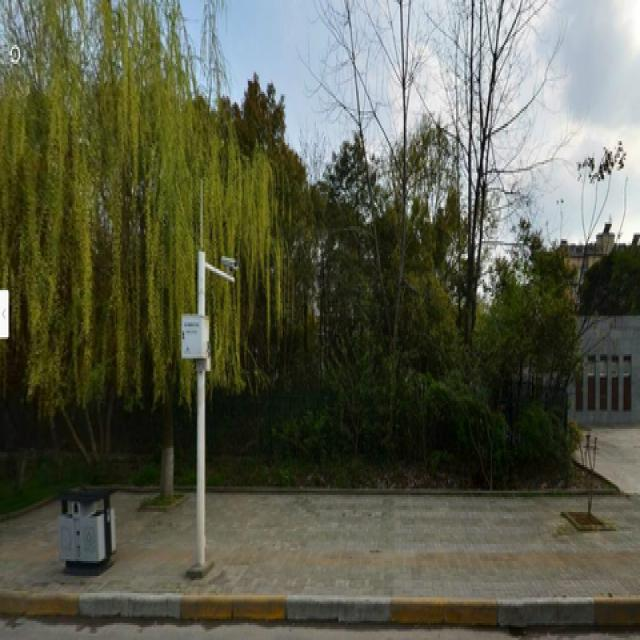plat: (22, 4, 258, 482)
